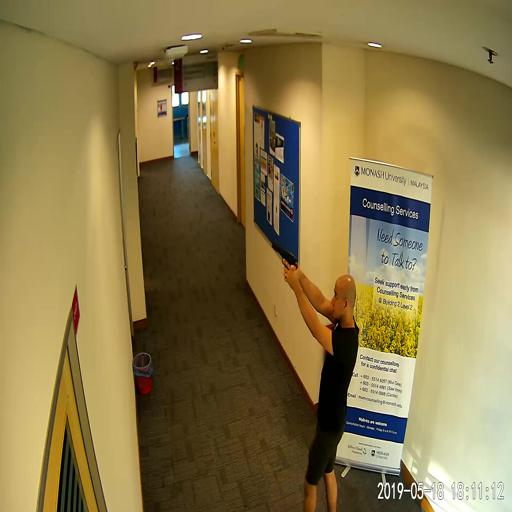pistol: (271, 243, 299, 283)
